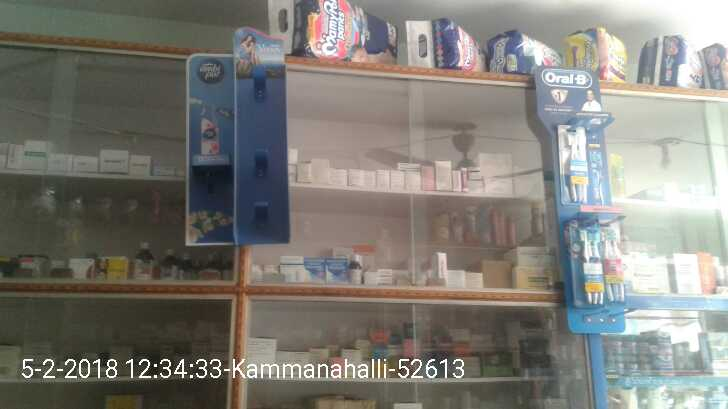oralb: (566, 224, 604, 307), (556, 129, 588, 204), (603, 226, 634, 301)
